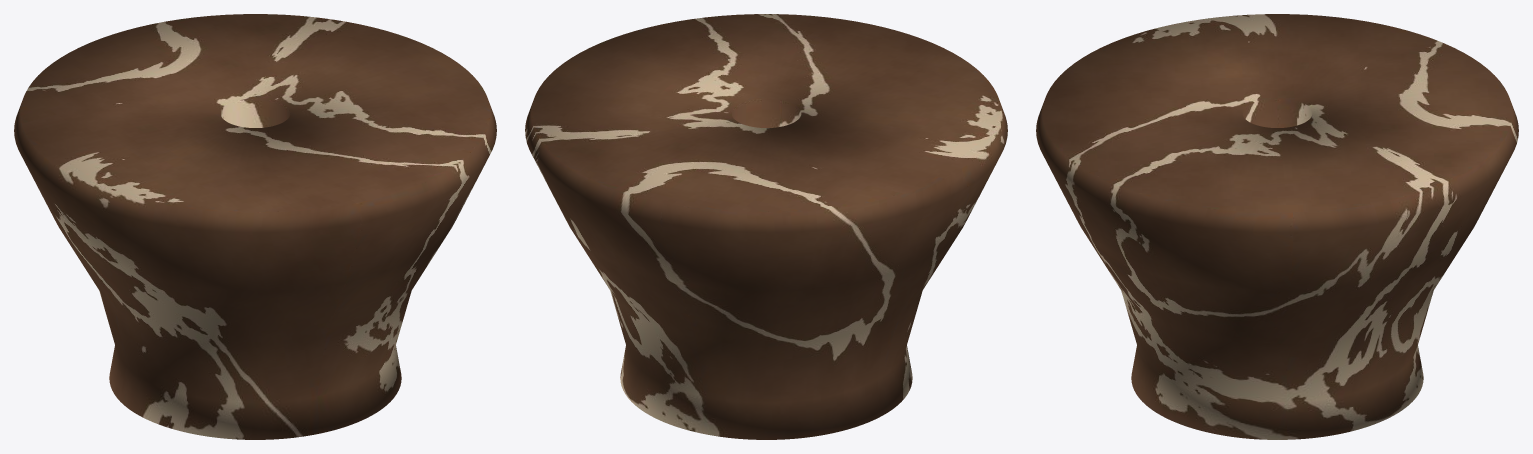
File: sklum-chandelier-bellvion.glb
3 renders of one model, left to right at view 1: azimuth 30°, elevation 25°; view 2: azimuth 150°, elevation 25°; view 3: azimuth 270°, elevation 25°, orthographic.
Visible parts, largest first — view 1: bellvion; view 2: bellvion; view 3: bellvion.
Boxes of the visible parts, x1=… form: bellvion: x1=14, y1=14, x2=496, y2=439; bellvion: x1=525, y1=14, x2=1007, y2=439; bellvion: x1=1036, y1=14, x2=1518, y2=439.
Size of the model in its own units: 0.152 by 0.092 by 0.152.
1 material, 1 textured.
